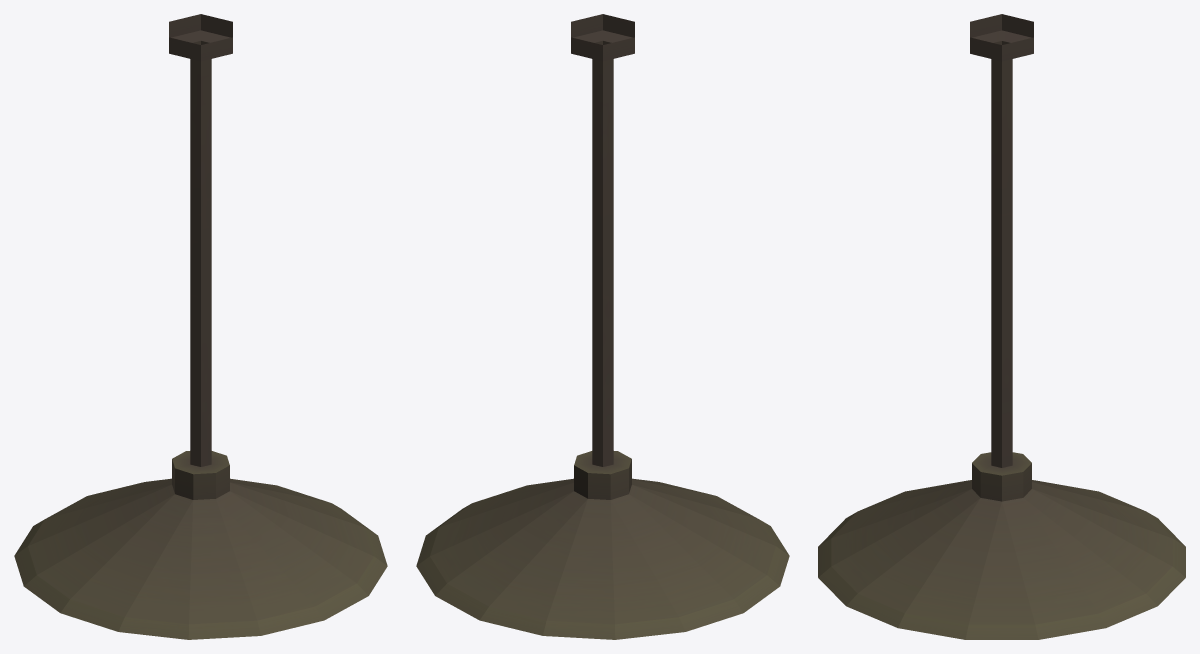
File: SM_EN_Ceilinglmap.fbx
3 renders of one model, left to right at view 1: azimuth 30°, elevation 25°; view 2: azimuth 150°, elevation 25°; view 3: azimuth 270°, elevation 25°, orthographic.
Parts seen in each view (by area): view 1: SM_EN_Ceilinglmap; view 2: SM_EN_Ceilinglmap; view 3: SM_EN_Ceilinglmap.
Boxes of the visible parts, <box> form: SM_EN_Ceilinglmap: <box>14,14,387,639</box>; SM_EN_Ceilinglmap: <box>416,14,789,639</box>; SM_EN_Ceilinglmap: <box>818,14,1185,639</box>.
Size of the model in its own units: 133 by 133 by 219.
